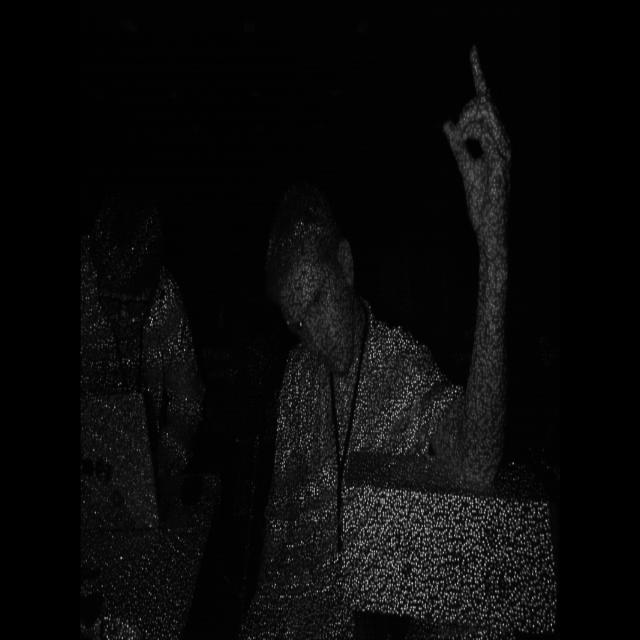D: (440, 18, 538, 272)
